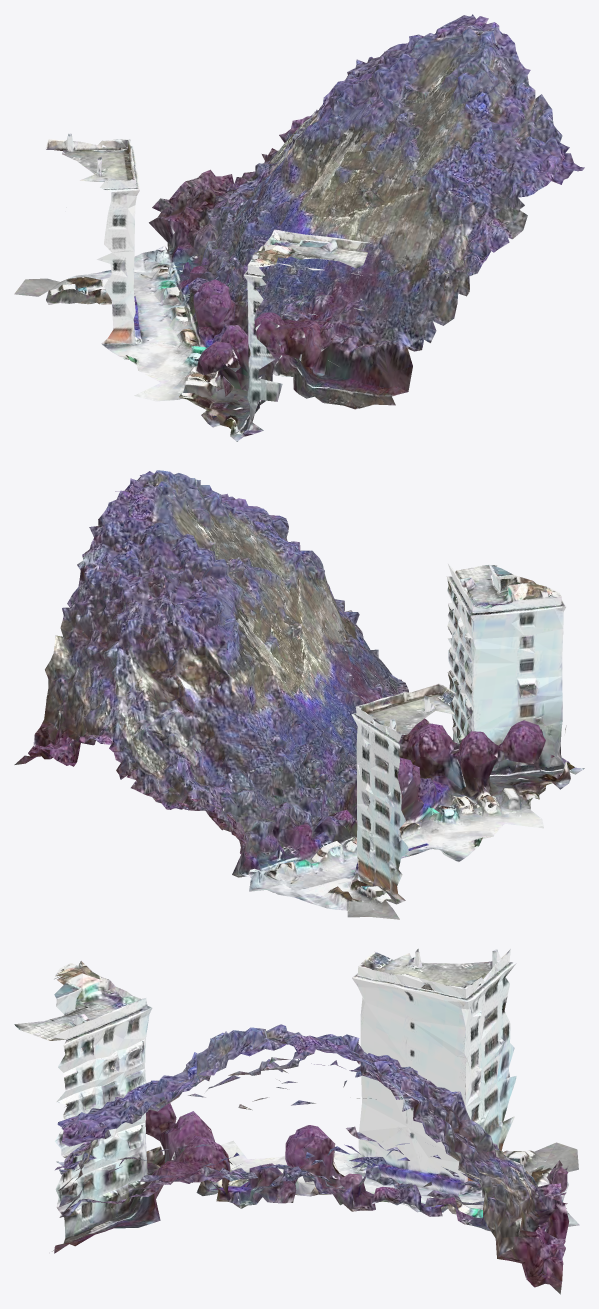
File: Tile_+012_+018_L19_000022.glb
The picture shows the model from 3 angles, top to bottom: view 1: azimuth 30°, elevation 25°; view 2: azimuth 150°, elevation 25°; view 3: azimuth 270°, elevation 25°; orthographic projection. The views are drawn at different scales.
Visible parts, largest first — view 1: rtc; view 2: rtc; view 3: rtc.
Part boxes in pixels (box(x1,y1,x2,y2)): rtc: box(14, 14, 584, 441); rtc: box(14, 470, 584, 919); rtc: box(14, 948, 579, 1294).
Size of the model in its own units: 56.71 by 37.65 by 58.12.
1 material, 1 textured.
